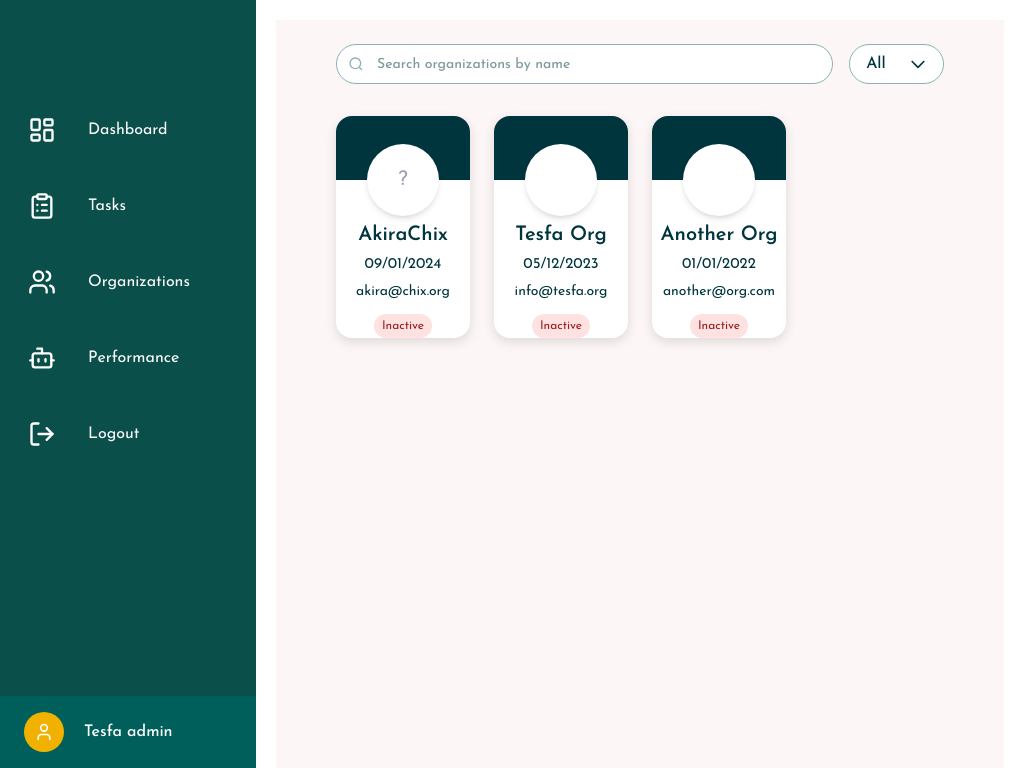
OrganizationsPage › filters organizations by organization name
Type "akira" into the field with placeholder "Search organizations by name".
click(585, 64); type("akira")  # box [336,44,833,84]
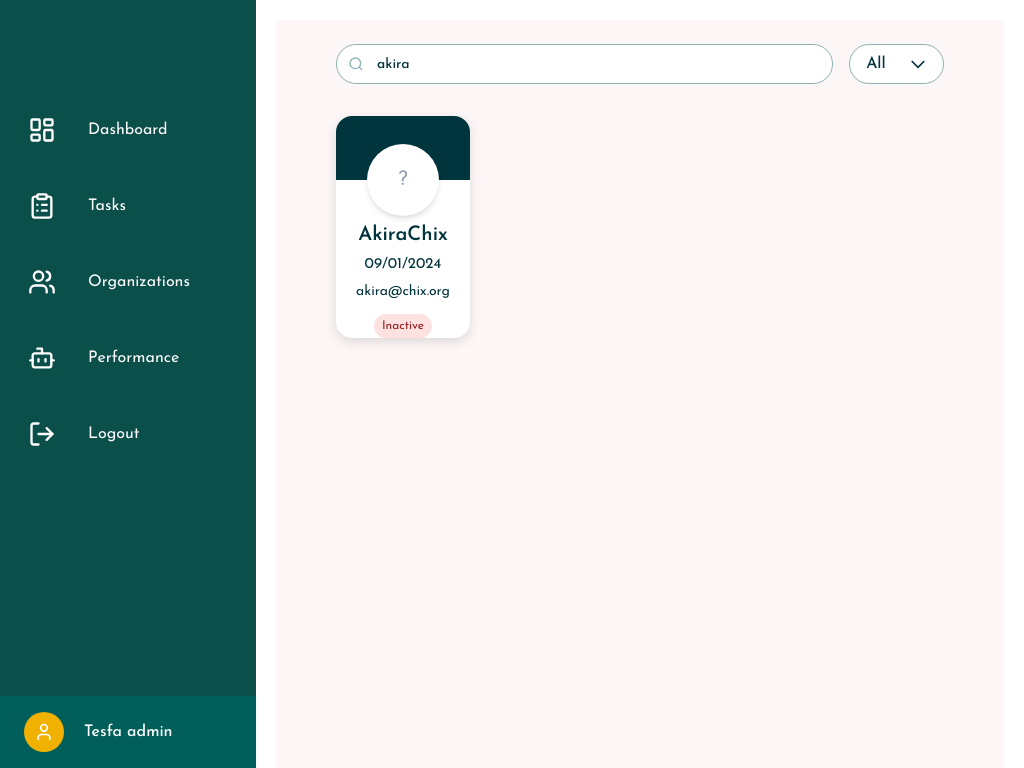
expect the text "AkiraChix" is shown: met, box [358,220,448,250]
expect the text "Tesfa Org" is gone: met
